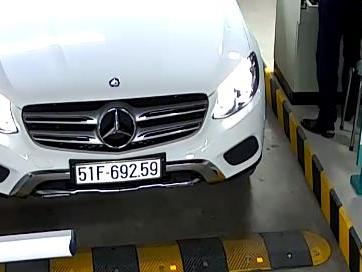number: (73, 157, 165, 184)
